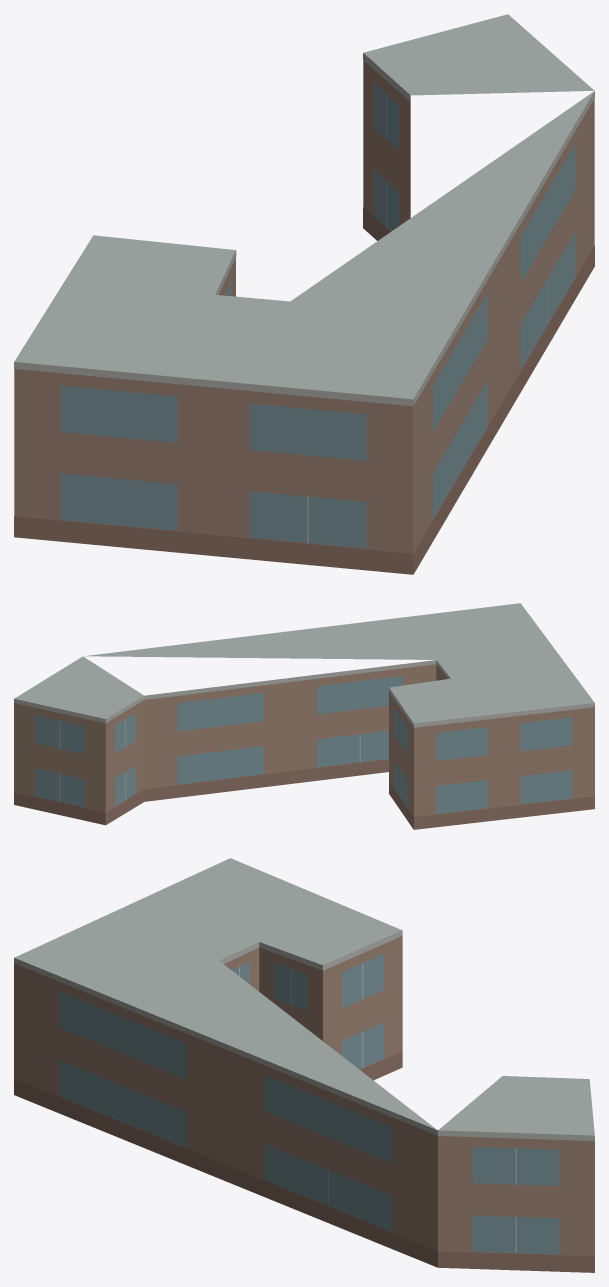
Rendered from survey-upis-32756279.glb.
The picture shows the model from 3 angles, top to bottom: view 1: azimuth 30°, elevation 25°; view 2: azimuth 150°, elevation 25°; view 3: azimuth 270°, elevation 25°; orthographic projection. The views are drawn at different scales.
Parts seen in each view (by area): view 1: survey-upis-32756279.tmp; view 2: survey-upis-32756279.tmp; view 3: survey-upis-32756279.tmp.
Part boxes in pixels (x1,y1,x2,y2): survey-upis-32756279.tmp: (14, 14, 594, 574); survey-upis-32756279.tmp: (14, 603, 594, 829); survey-upis-32756279.tmp: (14, 858, 594, 1272).
Bounding box in the file's own units: 26.46 × 6.1 × 23.4.
